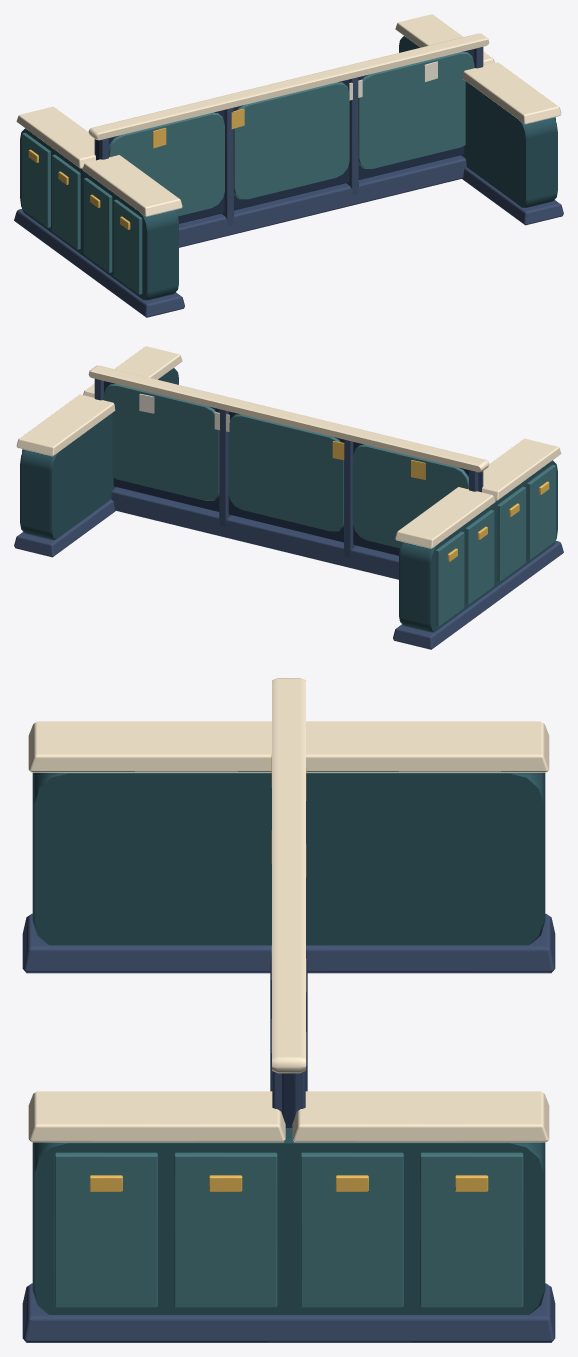
Rendered from partition_storage.glb.
The picture shows the model from 3 angles, top to bottom: view 1: azimuth 30°, elevation 25°; view 2: azimuth 150°, elevation 25°; view 3: azimuth 270°, elevation 25°; orthographic projection. The views are drawn at different scales.
Parts seen in each view (by area): view 1: partition_storage; view 2: partition_storage; view 3: partition_storage.
Boxes of the visible parts, <box> form: partition_storage: <box>14,14,563,317</box>; partition_storage: <box>14,346,563,649</box>; partition_storage: <box>22,678,555,1342</box>.
Size of the model in its own units: 5.54 by 1.71 by 3.03.
